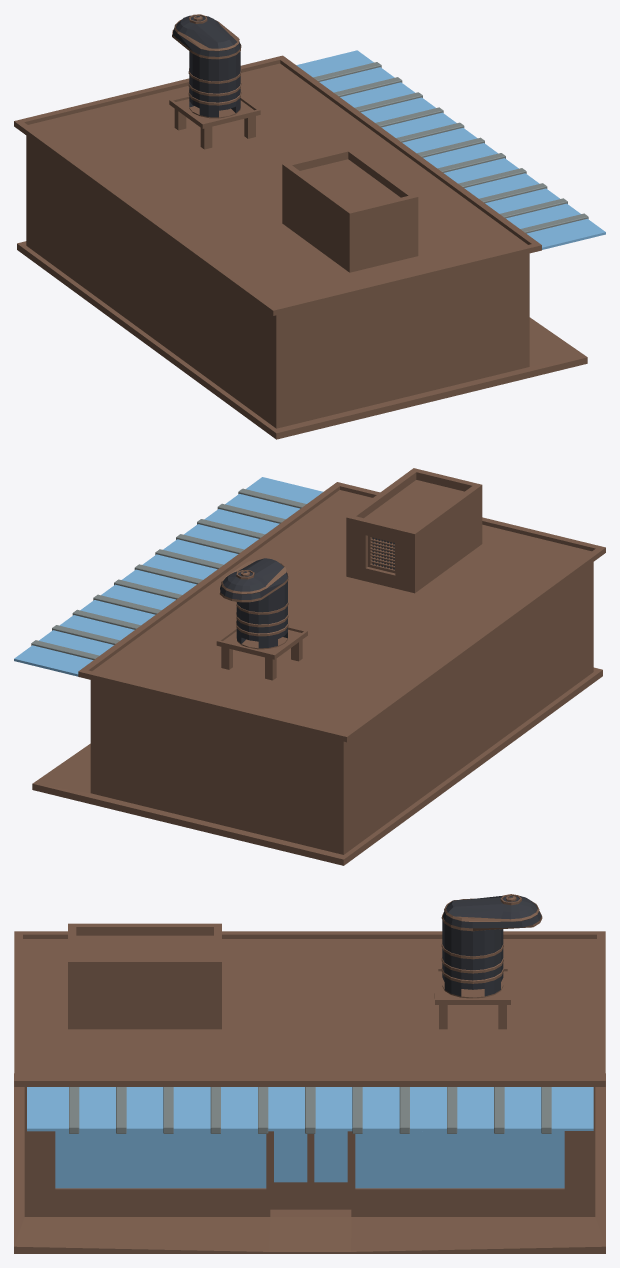
File: EdificioEnano.fbx
3 views of the same model, one above another, from view 1: azimuth 30°, elevation 25°; view 2: azimuth 150°, elevation 25°; view 3: azimuth 270°, elevation 25° (orthographic). The views are drawn at different scales.
Parts seen in each view (by area): view 1: Edificio Pequeño2.007; view 2: Edificio Pequeño2.007; view 3: Edificio Pequeño2.007.
Boxes of the visible parts, x1,y1,x2,y2 form: Edificio Pequeño2.007: (14,14,605,439); Edificio Pequeño2.007: (14,468,605,865); Edificio Pequeño2.007: (14,894,605,1253).
Bounding box in the file's own units: 4.08 × 2.63 × 5.4.
